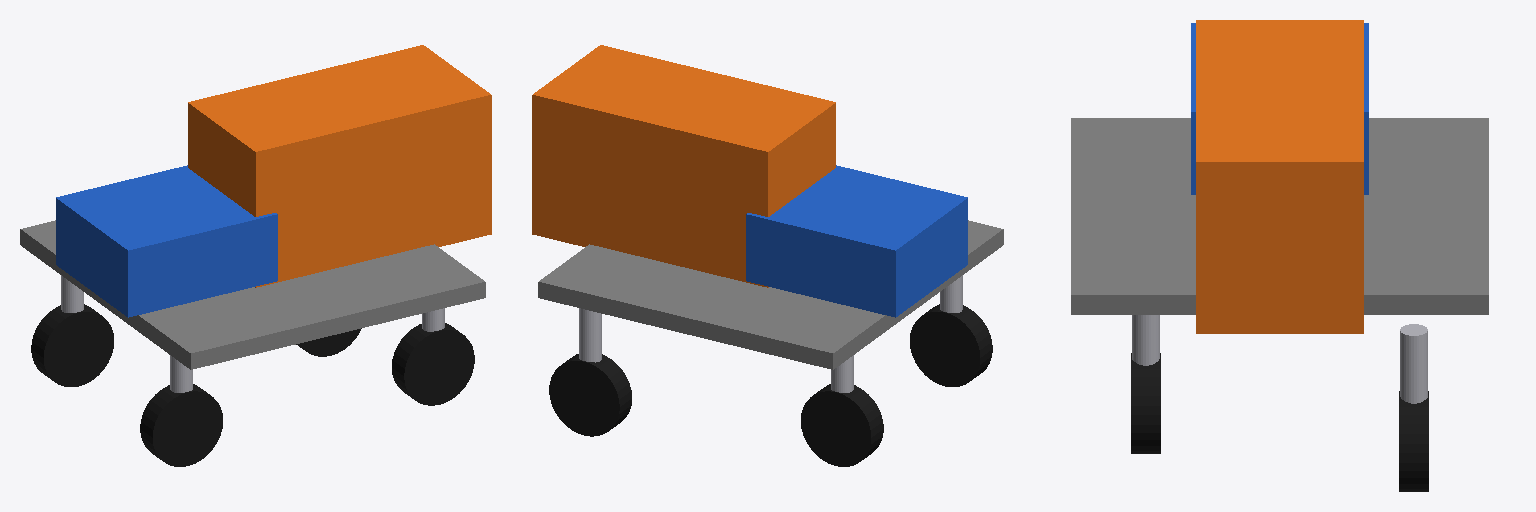
The robot description file, URDF, robot "deposition_robot":
<?xml version="1.0"?>
<robot name="deposition_robot">

  <!-- =========================
       Global materials
       ========================= -->
  <material name="gray">
    <color rgba="0.55 0.55 0.55 1.0"/>
  </material>

  <material name="blue">
    <color rgba="0.20 0.45 0.85 1.0"/>
  </material>

  <material name="orange">
    <color rgba="0.95 0.50 0.15 1.0"/>
  </material>

  <material name="dark_gray">
    <color rgba="0.15 0.15 0.15 1.0"/>
  </material>

  <material name="silver">
    <color rgba="0.75 0.75 0.78 1.0"/>
  </material>


  <!-- =========================
       BASE
       x = forward
       y = left
       z = up
       ========================= -->
  <link name="base_link">
    <visual>
      <origin xyz="0 0 0" rpy="0 0 0"/>
      <geometry>
        <box size="0.75 0.75 0.04"/>
      </geometry>
      <material name="gray"/>
    </visual>

    <collision>
      <origin xyz="0 0 0" rpy="0 0 0"/>
      <geometry>
        <box size="0.75 0.75 0.04"/>
      </geometry>
    </collision>
    <inertial>
      <mass value="68.0"/>
      <origin xyz="0 0 0" rpy="0 0 0"/>
      <inertia ixx="3.196" ixy="0.0" ixz="0.0" iyy="3.196" iyz="0.0" izz="6.38"/>
    </inertial>
  </link>


  <!-- =========================
       DEPOSITION SYSTEM
       Rear half of robot
       ========================= -->
  <link name="deposition_system_link">
    <visual>
      <origin xyz="0 0 0.11" rpy="0 0 0"/>
      <geometry>
        <box size="0.38 0.32 0.163"/>
      </geometry>
      <material name="blue"/>
    </visual>

    <collision>
      <origin xyz="0 0 0.11" rpy="0 0 0"/>
      <geometry>
        <box size="0.38 0.32 0.163"/>
      </geometry>
    </collision>
    <inertial>
      <mass value="5.44"/>
      <origin xyz="0 0 0" rpy="0 0 0"/>
      <inertia ixx="0.053" ixy="0.0" ixz="0.0" iyy="0.045" iyz="0.0" izz="0.112"/>
    </inertial>
  </link>

  <joint name="base_to_deposition_joint" type="fixed">
    <parent link="base_link"/>
    <child link="deposition_system_link"/>
    <!-- rear = negative x -->
    <origin xyz="-0.22 0 0.0" rpy="0 0 0"/>
  </joint>


  <!-- =========================
       EXTRACTION SYSTEM
       Front half, taller than deposition system
       ========================= -->
  <link name="extraction_system_link">
    <visual>
      <origin xyz="0 0 0.18" rpy="0 0 0"/>
      <geometry>
        <box size="0.60 0.30 0.34"/>
      </geometry>
      <material name="orange"/>
    </visual>

    <collision>
      <origin xyz="0 0 0.18" rpy="0 0 0"/>
      <geometry>
        <box size="0.60 0.30 0.34"/>
      </geometry>
    </collision>
    <inertial>
      <mass value="19.05"/>
      <origin xyz="0 0 0" rpy="0 0 0"/>
      <inertia ixx="0.236" ixy="0.0" ixz="0.0" iyy="0.937" iyz="0.0" izz="0.714"/>
    </inertial>
  </link>

  <joint name="base_to_extraction_joint" type="fixed">
    <parent link="base_link"/>
    <child link="extraction_system_link"/>
    <!-- front = positive x -->
    <origin xyz="0.22 0 0.0" rpy="0 0 0"/>
  </joint>


  <!-- =========================================================
       FRONT LEFT WHEEL MODULE
       base -> steering joint -> vertical rod -> wheel spin joint -> wheel
       ========================================================= -->
  <link name="front_left_steering_rod_link">
    <visual>
      <!-- rod extends downward from its link frame -->
      <origin xyz="0 0 -0.11" rpy="0 0 0"/>
      <geometry>
        <cylinder radius="0.025" length="0.22"/>
      </geometry>
      <material name="silver"/>
    </visual>
    <inertial>
      <mass value="0.5"/>
      <origin xyz="0 0 -0.11" rpy="0 0 0"/>
      <inertia ixx="0.001" ixy="0" ixz="0" iyy="0.001" iyz="0" izz="0.001"/>
    </inertial>
  </link>

  <joint name="front_left_steering_joint" type="revolute">
    <parent link="base_link"/>
    <child link="front_left_steering_rod_link"/>
    <origin xyz="0.32 0.24 -0.075" rpy="0 0 0"/>
    <axis xyz="0 0 1"/>
    <limit lower="-1.5708" upper="1.5708" effort="20.0" velocity="2.0"/>
  </joint>

  <link name="front_left_wheel_link">
    <visual>
      <!-- cylinder is rotated so wheel axle is along y -->
      <origin xyz="0 0 0" rpy="1.5708 0 0"/>
      <geometry>
        <cylinder radius="0.09" length="0.055"/>
      </geometry>
      <material name="dark_gray"/>
    </visual>
    <collision>
      <origin xyz="0 0 0" rpy="1.5708 0 0"/>
      <geometry>
        <cylinder radius="0.09" length="0.055"/>
      </geometry>
    </collision>
    <inertial>
      <mass value="1.54"/>
      <origin xyz="0 0 0" rpy="1.5708 0 0"/>
      <inertia ixx="0.0045" ixy="0.0" ixz="0.0" iyy="0.00557" iyz="0.0" izz="0.0067"/>
    </inertial>
  </link>

  <joint name="front_left_wheel_spin_joint" type="continuous">
    <parent link="front_left_steering_rod_link"/>
    <child link="front_left_wheel_link"/>
    <origin xyz="0 0 -0.22" rpy="0 0 0"/>
    <axis xyz="0 1 0"/>
  </joint>


  <!-- =========================================================
       FRONT RIGHT WHEEL MODULE
       ========================================================= -->
  <link name="front_right_steering_rod_link">
    <visual>
      <origin xyz="0 0 -0.11" rpy="0 0 0"/>
      <geometry>
        <cylinder radius="0.025" length="0.22"/>
      </geometry>
      <material name="silver"/>
    </visual>
    <inertial>
      <mass value="0.5"/>
      <origin xyz="0 0 -0.11" rpy="0 0 0"/>
      <inertia ixx="0.001" ixy="0" ixz="0" iyy="0.001" iyz="0" izz="0.001"/>
    </inertial>
  </link>

  <joint name="front_right_steering_joint" type="revolute">
    <parent link="base_link"/>
    <child link="front_right_steering_rod_link"/>
    <origin xyz="0.32 -0.24 -0.0" rpy="0 0 0"/>
    <axis xyz="0 0 1"/>
    <limit lower="-1.5708" upper="1.5708" effort="20.0" velocity="2.0"/>
  </joint>

  <link name="front_right_wheel_link">
    <visual>
      <!-- cylinder is rotated so wheel axle is along y -->
      <origin xyz="0 0 0" rpy="1.5708 0 0"/>
      <geometry>
        <cylinder radius="0.09" length="0.055"/>
      </geometry>
      <material name="dark_gray"/>
    </visual>
    <collision>
      <origin xyz="0 0 0" rpy="1.5708 0 0"/>
      <geometry>
        <cylinder radius="0.09" length="0.055"/>
      </geometry>
    </collision>
    <inertial>
      <mass value="1.54"/>
      <origin xyz="0 0 0" rpy="1.5708 0 0"/>
      <inertia ixx="0.0045" ixy="0.0" ixz="0.0" iyy="0.00557" iyz="0.0" izz="0.0067"/>
    </inertial>
  </link>

  <joint name="front_right_wheel_spin_joint" type="continuous">
    <parent link="front_right_steering_rod_link"/>
    <child link="front_right_wheel_link"/>
    <origin xyz="0 0 -0.22" rpy="0 0 0"/>
    <axis xyz="0 1 0"/>
  </joint>


  <!-- =========================================================
       REAR LEFT WHEEL MODULE
       ========================================================= -->
  <link name="rear_left_steering_rod_link">
    <visual>
      <origin xyz="0 0 -0.11" rpy="0 0 0"/>
      <geometry>
        <cylinder radius="0.025" length="0.22"/>
      </geometry>
      <material name="silver"/>
    </visual>
    <inertial>
      <mass value="0.5"/>
      <origin xyz="0 0 -0.11" rpy="0 0 0"/>
      <inertia ixx="0.001" ixy="0" ixz="0" iyy="0.001" iyz="0" izz="0.001"/>
    </inertial>
  </link>

  <joint name="rear_left_steering_joint" type="revolute">
    <parent link="base_link"/>
    <child link="rear_left_steering_rod_link"/>
    <origin xyz="-0.32 0.24 -0.0" rpy="0 0 0"/>
    <axis xyz="0 0 1"/>
    <limit lower="-1.5708" upper="1.5708" effort="20.0" velocity="2.0"/>
  </joint>

  <link name="rear_left_wheel_link">
    <visual>
      <!-- cylinder is rotated so wheel axle is along y -->
      <origin xyz="0 0 0" rpy="1.5708 0 0"/>
      <geometry>
        <cylinder radius="0.09" length="0.055"/>
      </geometry>
      <material name="dark_gray"/>
    </visual>
    <collision>
      <origin xyz="0 0 0" rpy="1.5708 0 0"/>
      <geometry>
        <cylinder radius="0.09" length="0.055"/>
      </geometry>
    </collision>
    <inertial>
      <mass value="1.54"/>
      <origin xyz="0 0 0" rpy="1.5708 0 0"/>
      <inertia ixx="0.0045" ixy="0.0" ixz="0.0" iyy="0.00557" iyz="0.0" izz="0.0067"/>
    </inertial>
  </link>

  <joint name="rear_left_wheel_spin_joint" type="continuous">
    <parent link="rear_left_steering_rod_link"/>
    <child link="rear_left_wheel_link"/>
    <origin xyz="0 0 -0.22" rpy="0 0 0"/>
    <axis xyz="0 1 0"/>
  </joint>


  <!-- =========================================================
       REAR RIGHT WHEEL MODULE
       ========================================================= -->
  <link name="rear_right_steering_rod_link">
    <visual>
      <origin xyz="0 0 -0.11" rpy="0 0 0"/>
      <geometry>
        <cylinder radius="0.025" length="0.22"/>
      </geometry>
      <material name="silver"/>
    </visual>
    <inertial>
      <mass value="0.5"/>
      <origin xyz="0 0 -0.11" rpy="0 0 0"/>
      <inertia ixx="0.001" ixy="0" ixz="0" iyy="0.001" iyz="0" izz="0.001"/>
    </inertial>
  </link>

  <joint name="rear_right_steering_joint" type="revolute">
    <parent link="base_link"/>
    <child link="rear_right_steering_rod_link"/>
    <origin xyz="-0.32 -0.24 -0.0" rpy="0 0 0"/>
    <axis xyz="0 0 1"/>
    <limit lower="-1.5708" upper="1.5708" effort="20.0" velocity="2.0"/>
  </joint>

  <link name="rear_right_wheel_link">
    <visual>
      <!-- cylinder is rotated so wheel axle is along y -->
      <origin xyz="0 0 0" rpy="1.5708 0 0"/>
      <geometry>
        <cylinder radius="0.09" length="0.055"/>
      </geometry>
      <material name="dark_gray"/>
    </visual>
    <collision>
      <origin xyz="0 0 0" rpy="1.5708 0 0"/>
      <geometry>
        <cylinder radius="0.09" length="0.055"/>
      </geometry>
    </collision>
    <inertial>
      <mass value="1.54"/>
      <origin xyz="0 0 0" rpy="1.5708 0 0"/>
      <inertia ixx="0.0045" ixy="0.0" ixz="0.0" iyy="0.00557" iyz="0.0" izz="0.0067"/>
    </inertial>
  </link>

  <joint name="rear_right_wheel_spin_joint" type="continuous">
    <parent link="rear_right_steering_rod_link"/>
    <child link="rear_right_wheel_link"/>
    <origin xyz="0 0 -0.22" rpy="0 0 0"/>
    <axis xyz="0 1 0"/>
  </joint>
<gazebo>  <!--plugin from gazebo package built in, joint attach, topic to subscribe to, pid-p gain-->
    <plugin filename="gz-sim-joint-position-controller-system" name="gz::sim::systems::JointPositionController">
      <joint_name>front_left_steering_joint</joint_name>
      <topic>/cmd_pos/fl_steering</topic>
      <p_gain>20.0</p_gain>
    </plugin>
    <plugin filename="gz-sim-joint-position-controller-system" name="gz::sim::systems::JointPositionController">
      <joint_name>front_right_steering_joint</joint_name>
      <topic>/cmd_pos/fr_steering</topic>
      <p_gain>20.0</p_gain>
    </plugin>
    <plugin filename="gz-sim-joint-position-controller-system" name="gz::sim::systems::JointPositionController">
      <joint_name>rear_left_steering_joint</joint_name>
      <topic>/cmd_pos/rl_steering</topic>
      <p_gain>20.0</p_gain>
    </plugin>
    <plugin filename="gz-sim-joint-position-controller-system" name="gz::sim::systems::JointPositionController">
      <joint_name>rear_right_steering_joint</joint_name>
      <topic>/cmd_pos/rr_steering</topic>
      <p_gain>20.0</p_gain>
    </plugin>
    <plugin filename="gz-sim-joint-velocity-controller-system" name="gz::sim::systems::JointVelocityController">
      <joint_name>front_left_wheel_spin_joint</joint_name>
      <topic>/cmd_vel/fl_wheel</topic>
    </plugin>
    <plugin filename="gz-sim-joint-velocity-controller-system" name="gz::sim::systems::JointVelocityController">
      <joint_name>front_right_wheel_spin_joint</joint_name>
      <topic>/cmd_vel/fr_wheel</topic>
    </plugin>
    <plugin filename="gz-sim-joint-velocity-controller-system" name="gz::sim::systems::JointVelocityController">
      <joint_name>rear_left_wheel_spin_joint</joint_name>
      <topic>/cmd_vel/rl_wheel</topic>
    </plugin>
    <plugin filename="gz-sim-joint-velocity-controller-system" name="gz::sim::systems::JointVelocityController">
      <joint_name>rear_right_wheel_spin_joint</joint_name>
      <topic>/cmd_vel/rr_wheel</topic>
    </plugin>
    <plugin filename="gz-sim-joint-state-publisher-system" name="gz::sim::systems::JointStatePublisher">
      <joint_name>front_left_steering_joint</joint_name>
      <joint_name>front_right_steering_joint</joint_name>
      <joint_name>rear_left_steering_joint</joint_name>
      <joint_name>rear_right_steering_joint</joint_name>
      <joint_name>front_left_wheel_spin_joint</joint_name>
      <joint_name>front_right_wheel_spin_joint</joint_name>
      <joint_name>rear_left_wheel_spin_joint</joint_name>
      <joint_name>rear_right_wheel_spin_joint</joint_name>
    </plugin>
  </gazebo>
</robot>

--- What the picture shows (computed from the rendered views, not written in the file) ---
3 views of the same robot in one strip: view 1: azimuth 30°, elevation 25°; view 2: azimuth 150°, elevation 25°; view 3: azimuth 270°, elevation 25° (orthographic).
Robot: deposition_robot — 11 links, 10 joints (4 revolute, 4 continuous, 2 fixed); root link base_link; default pose: every joint at zero.
Links seen in each view (by area): view 1: extraction_system_link, deposition_system_link, base_link, rear_left_wheel_link, front_right_wheel_link, rear_right_wheel_link, front_left_wheel_link, rear_right_steering_rod_link, rear_left_steering_rod_link; view 2: extraction_system_link, deposition_system_link, base_link, front_left_wheel_link, rear_right_wheel_link, rear_left_wheel_link, front_left_steering_rod_link, rear_left_steering_rod_link, rear_right_steering_rod_link; view 3: extraction_system_link, base_link, front_left_wheel_link, front_right_wheel_link, front_left_steering_rod_link, deposition_system_link, front_right_steering_rod_link.
Link boxes in pixels (x1,y1,x2,y2): extraction_system_link: (188,45,491,287); deposition_system_link: (56,165,277,317); base_link: (20,220,485,369); rear_left_wheel_link: (31,304,113,386); front_right_wheel_link: (392,323,474,405); rear_right_wheel_link: (140,384,222,466); front_left_wheel_link: (296,328,361,356); rear_right_steering_rod_link: (170,355,192,392); rear_left_steering_rod_link: (61,275,83,312); extraction_system_link: (532,45,835,287); deposition_system_link: (746,165,967,317); base_link: (538,220,1003,369); front_left_wheel_link: (549,354,631,436); rear_right_wheel_link: (910,304,992,386); rear_left_wheel_link: (801,384,883,466); front_left_steering_rod_link: (579,308,601,362); rear_left_steering_rod_link: (831,355,853,392); rear_right_steering_rod_link: (940,275,962,312); extraction_system_link: (1196,20,1363,333); base_link: (1071,118,1488,314); front_left_wheel_link: (1399,391,1428,491); front_right_wheel_link: (1131,353,1160,453); front_left_steering_rod_link: (1400,324,1427,403); deposition_system_link: (1191,23,1368,194); front_right_steering_rod_link: (1132,315,1159,365).
Bounding box of the posed robot: 0.93 × 0.75 × 0.735 m (x, y, z).
Geometry: primitives only (box / cylinder / sphere), no mesh files.
